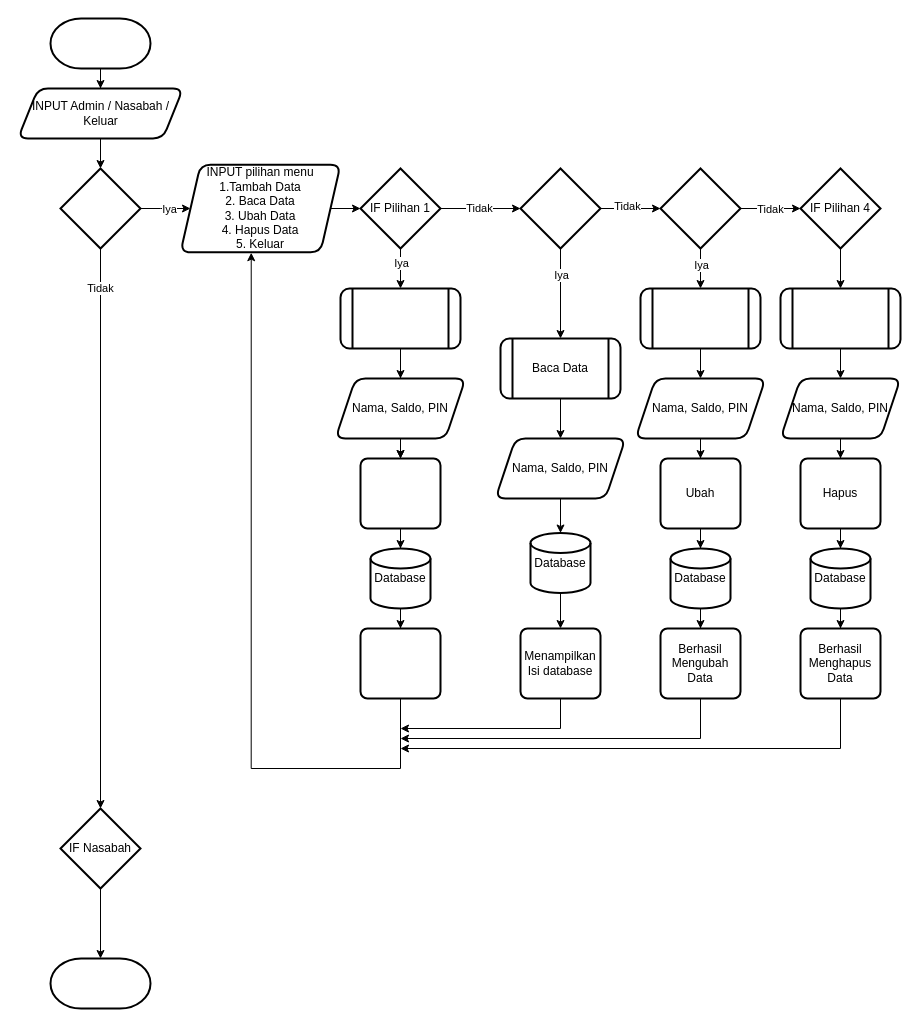
Some shapes in this 919 by 1026 pixel diagram are drawn without their labels. Each missing label, with the centre of its shape:
"Berhasil Menyimpan Data" belongs at pixel 400 663.
"Hapus Data" belongs at pixel 840 318.
"IF Admin" belongs at pixel 100 208.
"IF Pilihan 2" belongs at pixel 560 208.
"IF Pilihan 3" belongs at pixel 700 208.
"Mulai" belongs at pixel 100 43.
"Selesai" belongs at pixel 100 983.
"Simpan" belongs at pixel 400 493.
"Tambah Data" belongs at pixel 400 318.
"Ubah Data" belongs at pixel 700 318.
